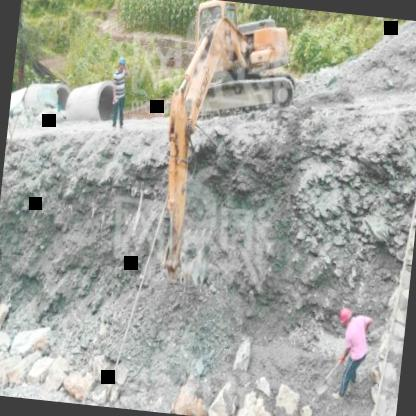helmet: (336, 306, 354, 328), (115, 53, 128, 72)
